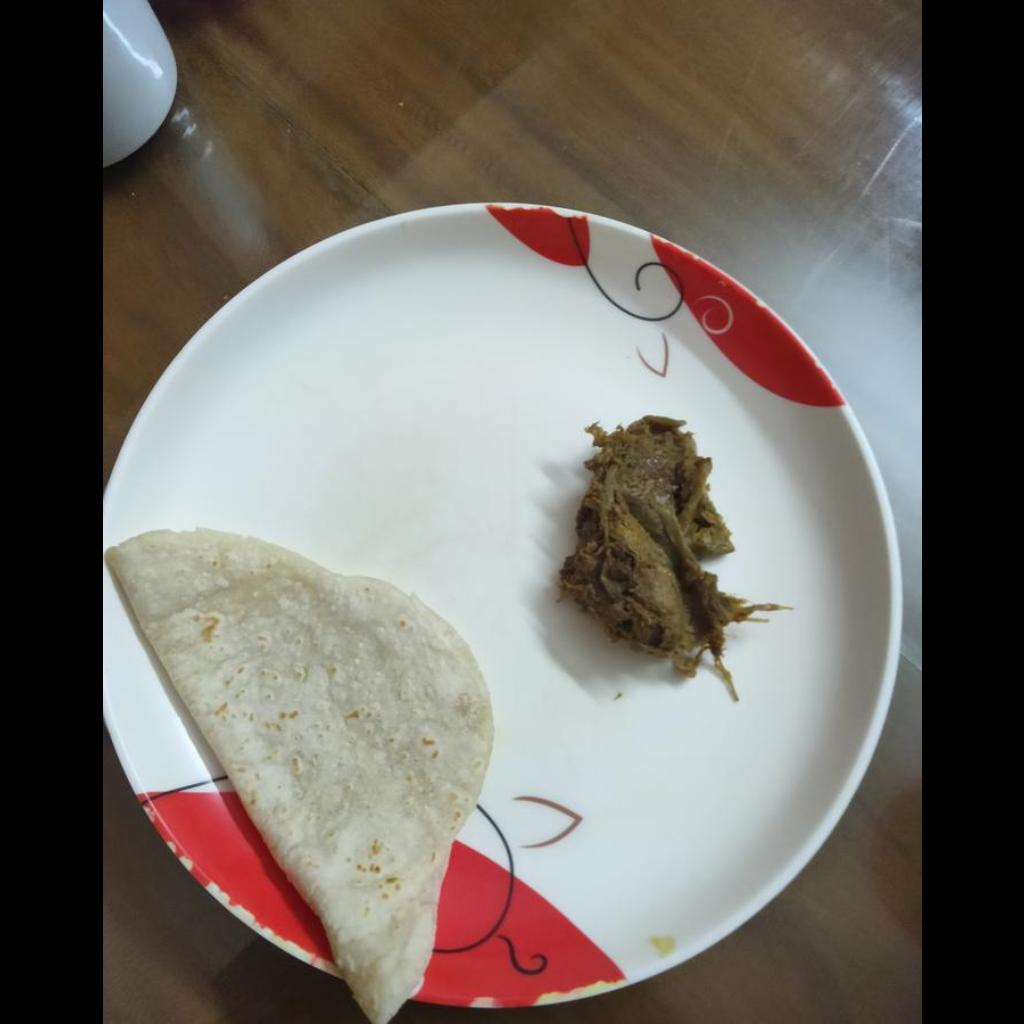ruti: (108, 527, 494, 1019)
vorta: (555, 414, 784, 680)
